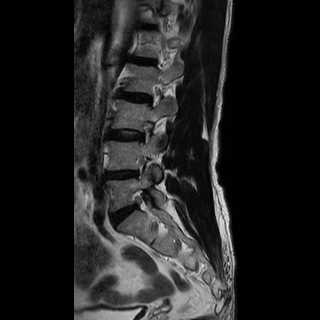RFS0: (133, 114, 155, 147), (143, 80, 166, 111), (128, 152, 151, 182)
